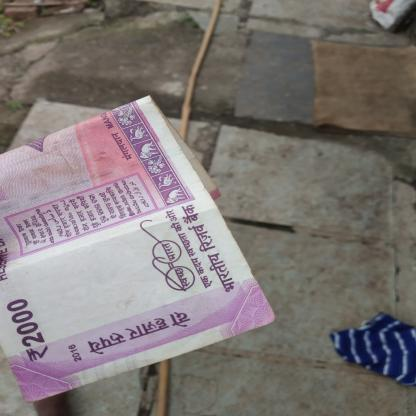New2000Back: (0, 97, 234, 375)
